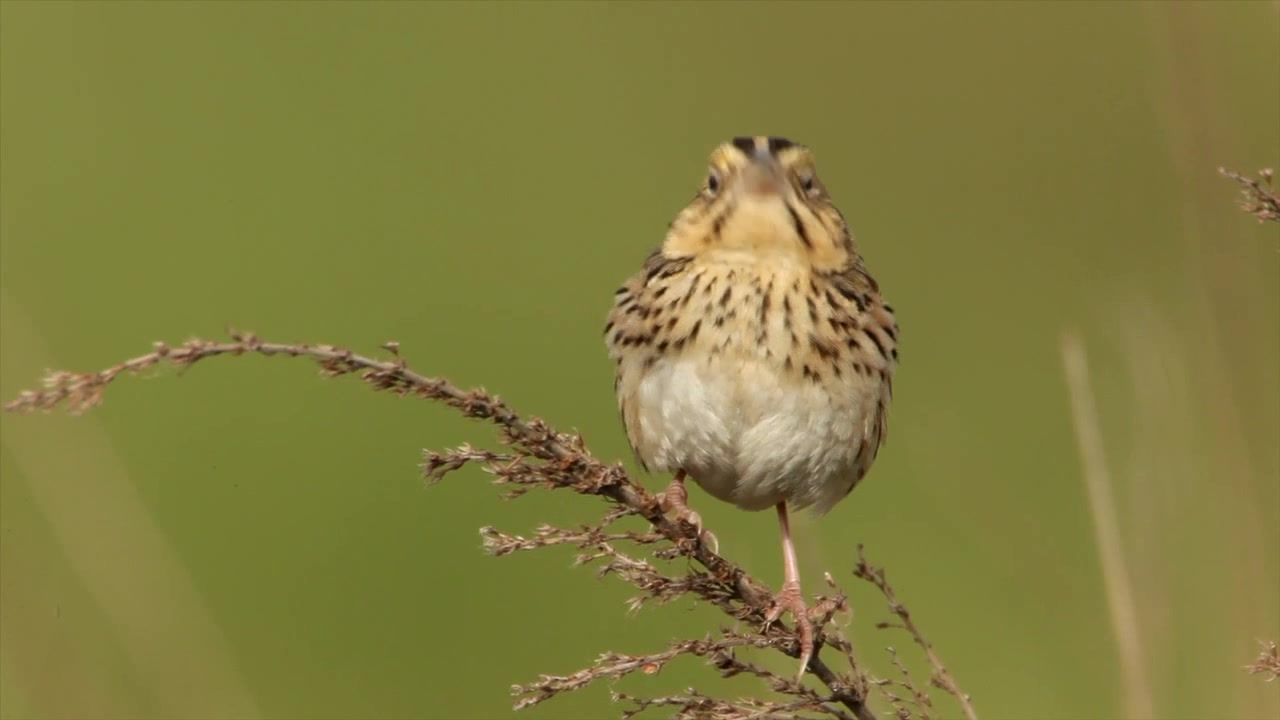bird: (602, 135, 902, 686)
